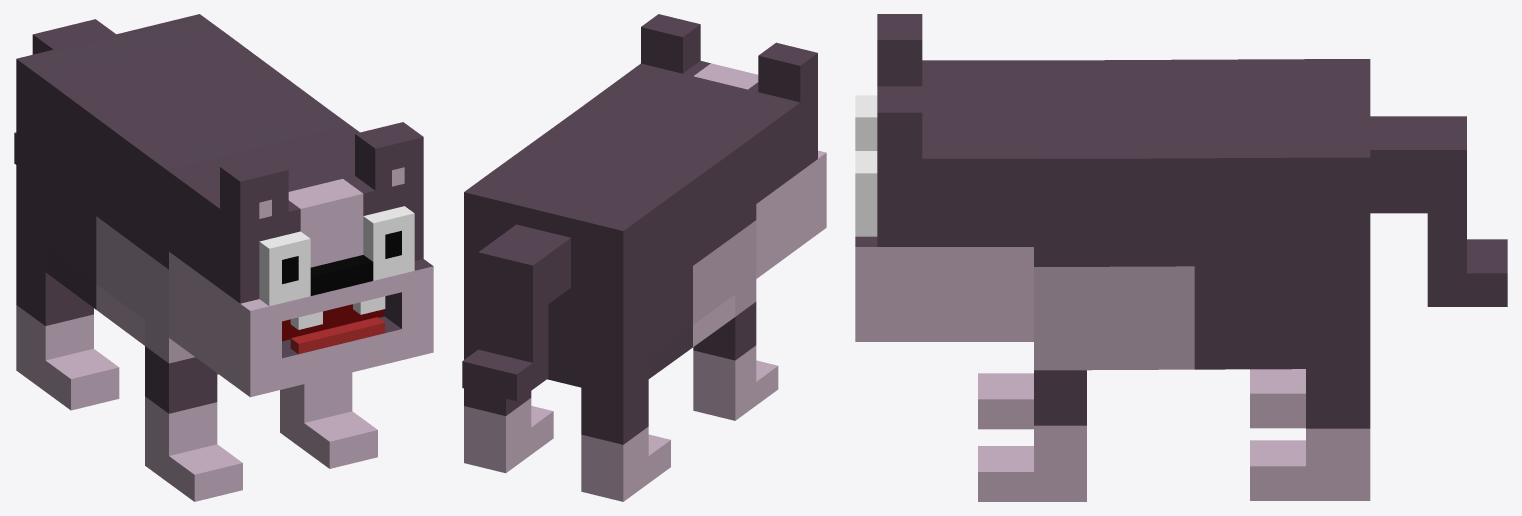
File: Cat.fbx
3 views of the same model, side by side, from view 1: azimuth 30°, elevation 25°; view 2: azimuth 150°, elevation 25°; view 3: azimuth 270°, elevation 25° (orthographic). The views are drawn at different scales.
Visible parts, largest first — view 1: pasted__pCube1; view 2: pasted__pCube1; view 3: pasted__pCube1.
Part boxes in pixels (bbox=[...]): pasted__pCube1: bbox=[14, 14, 433, 501]; pasted__pCube1: bbox=[462, 14, 826, 501]; pasted__pCube1: bbox=[855, 14, 1507, 501].
Bounding box in the file's own units: 7.96 × 22.27 × 14.67.
